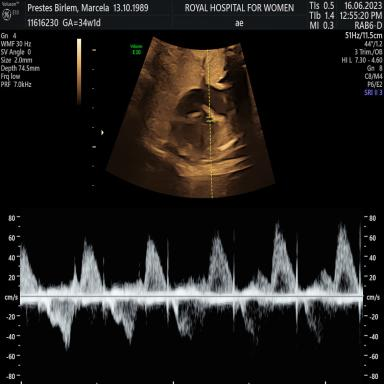Ultrasound-Waves: (27, 210, 359, 384)
